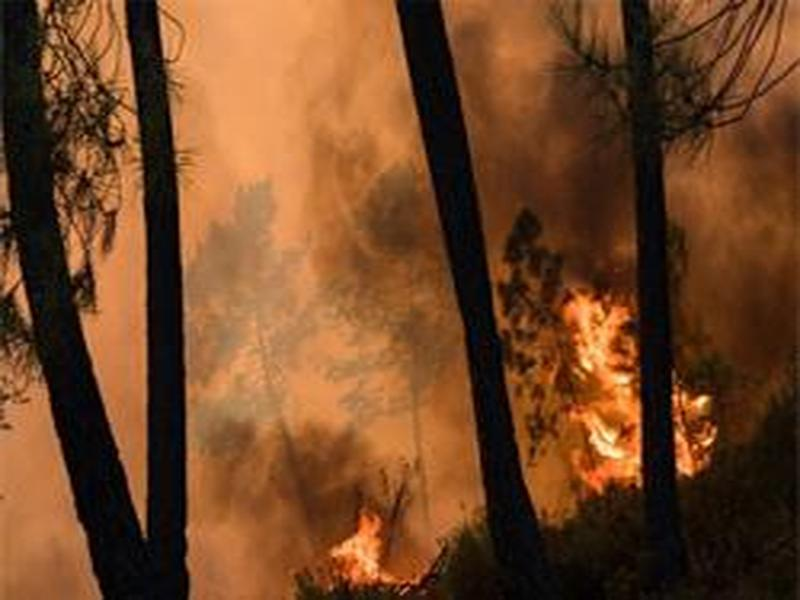FIRE: (121, 252, 800, 600)
